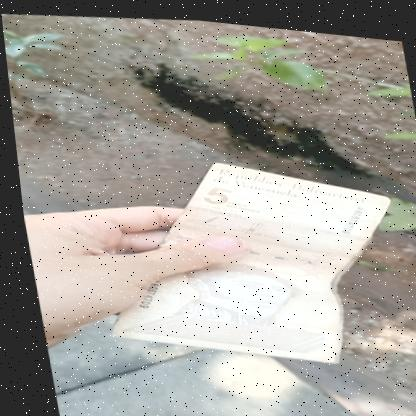five-front-vef: (72, 134, 415, 380)
